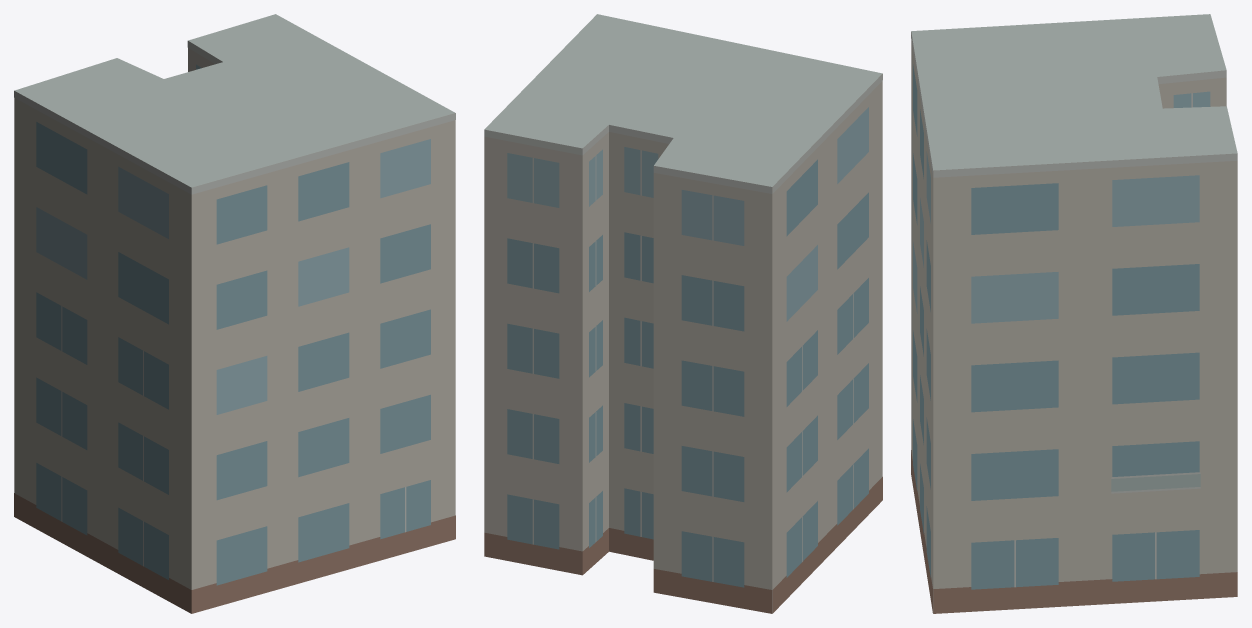
Rendered from survey-upis-32733668.glb.
The picture shows the model from 3 angles, left to right: view 1: azimuth 30°, elevation 25°; view 2: azimuth 150°, elevation 25°; view 3: azimuth 270°, elevation 25°; orthographic projection. The views are drawn at different scales.
Parts seen in each view (by area): view 1: survey-upis-32733668.tmp; view 2: survey-upis-32733668.tmp; view 3: survey-upis-32733668.tmp.
Boxes of the visible parts, x1=… form: survey-upis-32733668.tmp: x1=14, y1=14, x2=455, y2=613; survey-upis-32733668.tmp: x1=484, y1=14, x2=882, y2=613; survey-upis-32733668.tmp: x1=911, y1=14, x2=1237, y2=613.
Bounding box in the file's own units: 11.21 × 14.8 × 9.89.
